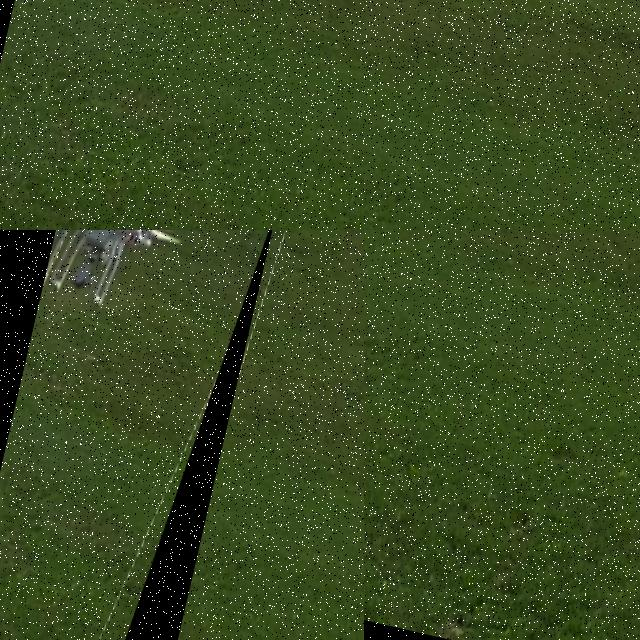drone: (0, 230, 280, 640)
